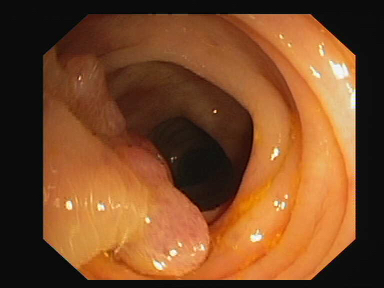polyp: (105, 143, 212, 277), (61, 54, 125, 136)
